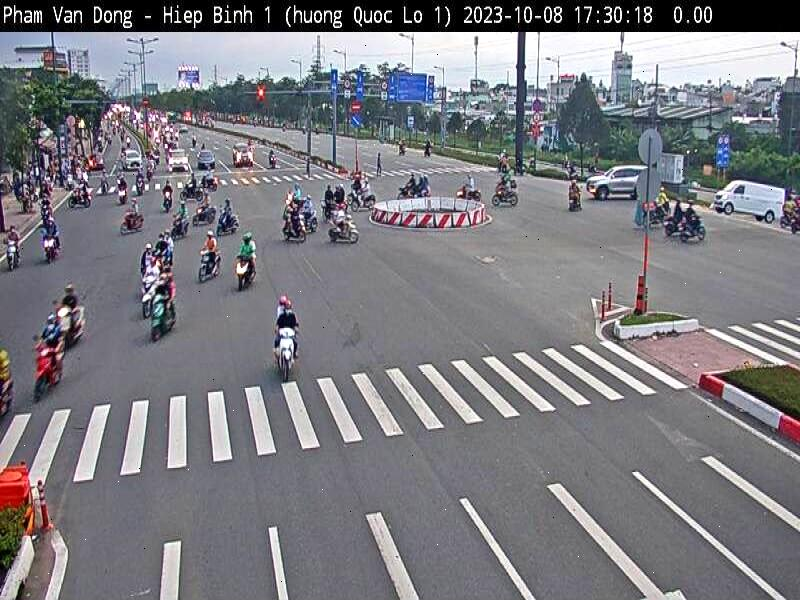car: (712, 177, 788, 224), (588, 164, 650, 199), (228, 137, 258, 170), (163, 148, 192, 177), (199, 146, 211, 167)
motorcycle: (29, 346, 67, 395), (54, 309, 88, 348), (274, 326, 298, 381), (148, 298, 176, 336), (327, 217, 364, 245), (195, 247, 224, 282), (232, 255, 261, 288), (140, 271, 156, 317), (282, 217, 308, 245), (682, 222, 708, 246), (0, 379, 12, 415)
